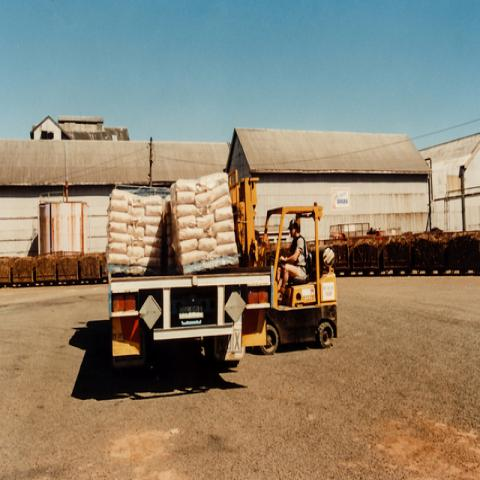truck: (104, 171, 342, 374)
